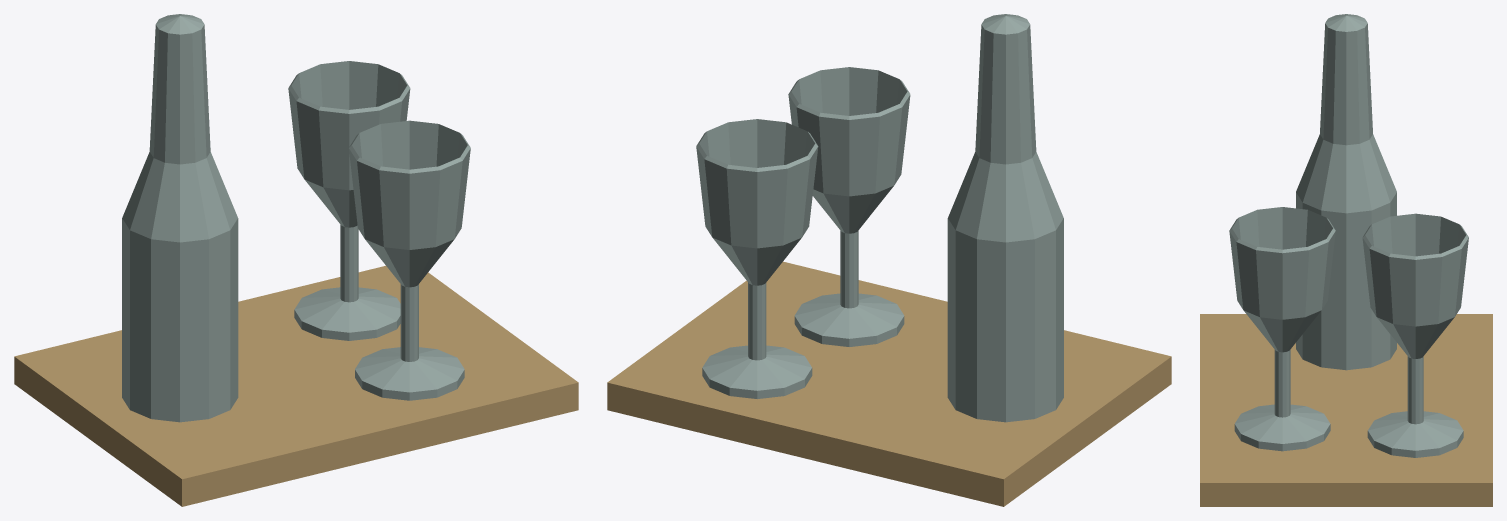
Rendered from c2_wine_set.glb.
The picture shows the model from 3 angles, left to right: view 1: azimuth 30°, elevation 25°; view 2: azimuth 150°, elevation 25°; view 3: azimuth 270°, elevation 25°; orthographic projection. The views are drawn at different scales.
Visible parts, largest first — view 1: c2_wine_set; view 2: c2_wine_set; view 3: c2_wine_set.
Boxes of the visible parts, x1,y1,x2,y2 form: c2_wine_set: (14, 14, 578, 506); c2_wine_set: (607, 14, 1171, 506); c2_wine_set: (1200, 14, 1492, 506).
Size of the model in its own units: 0.3 by 0.296 by 0.22.
